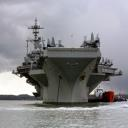Portanaves: (12, 15, 124, 109)
